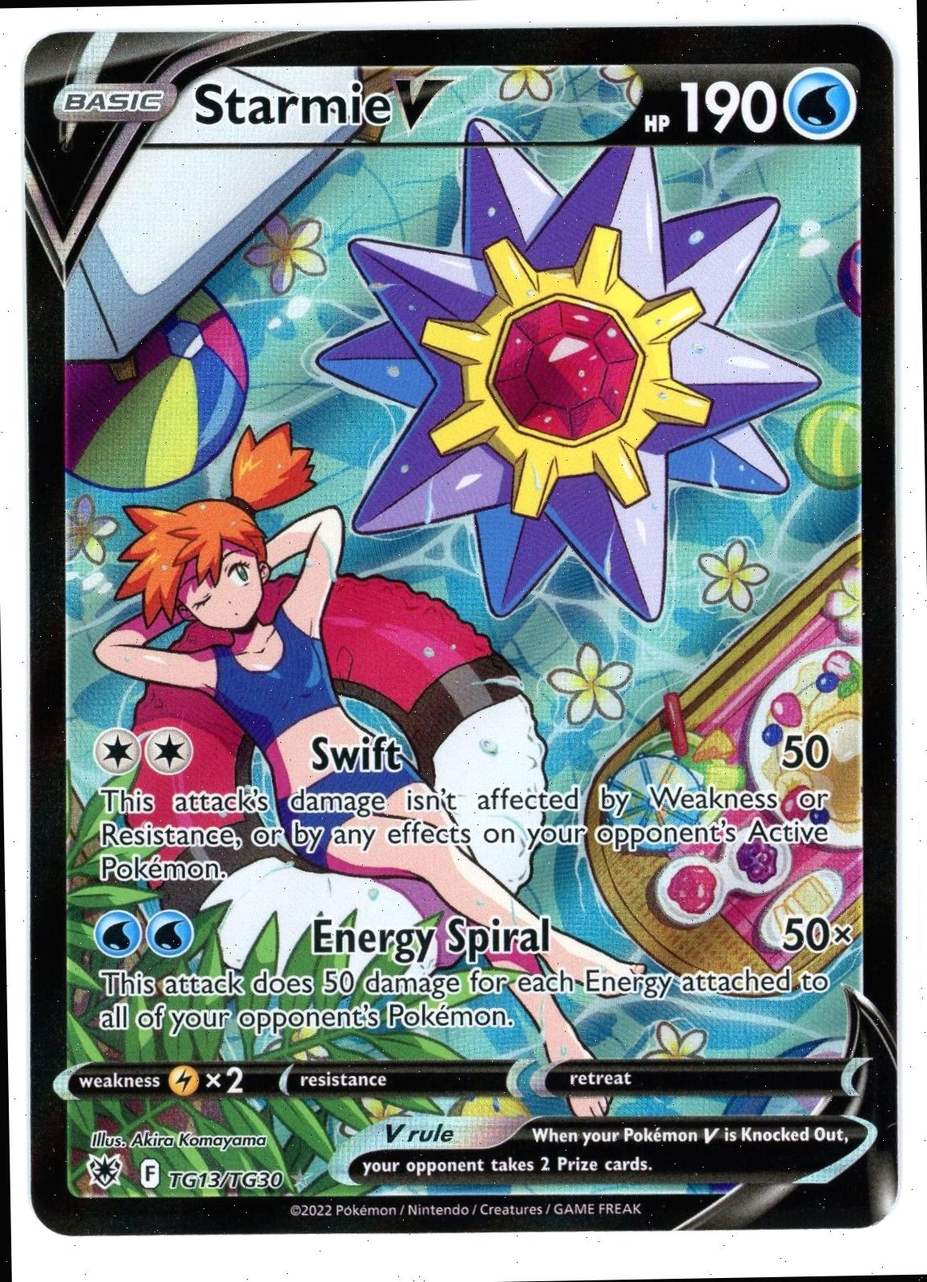card-2UtV: (23, 23, 898, 1236)
